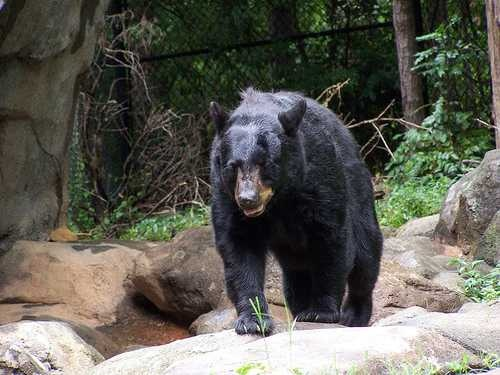bear: (191, 91, 319, 219)
